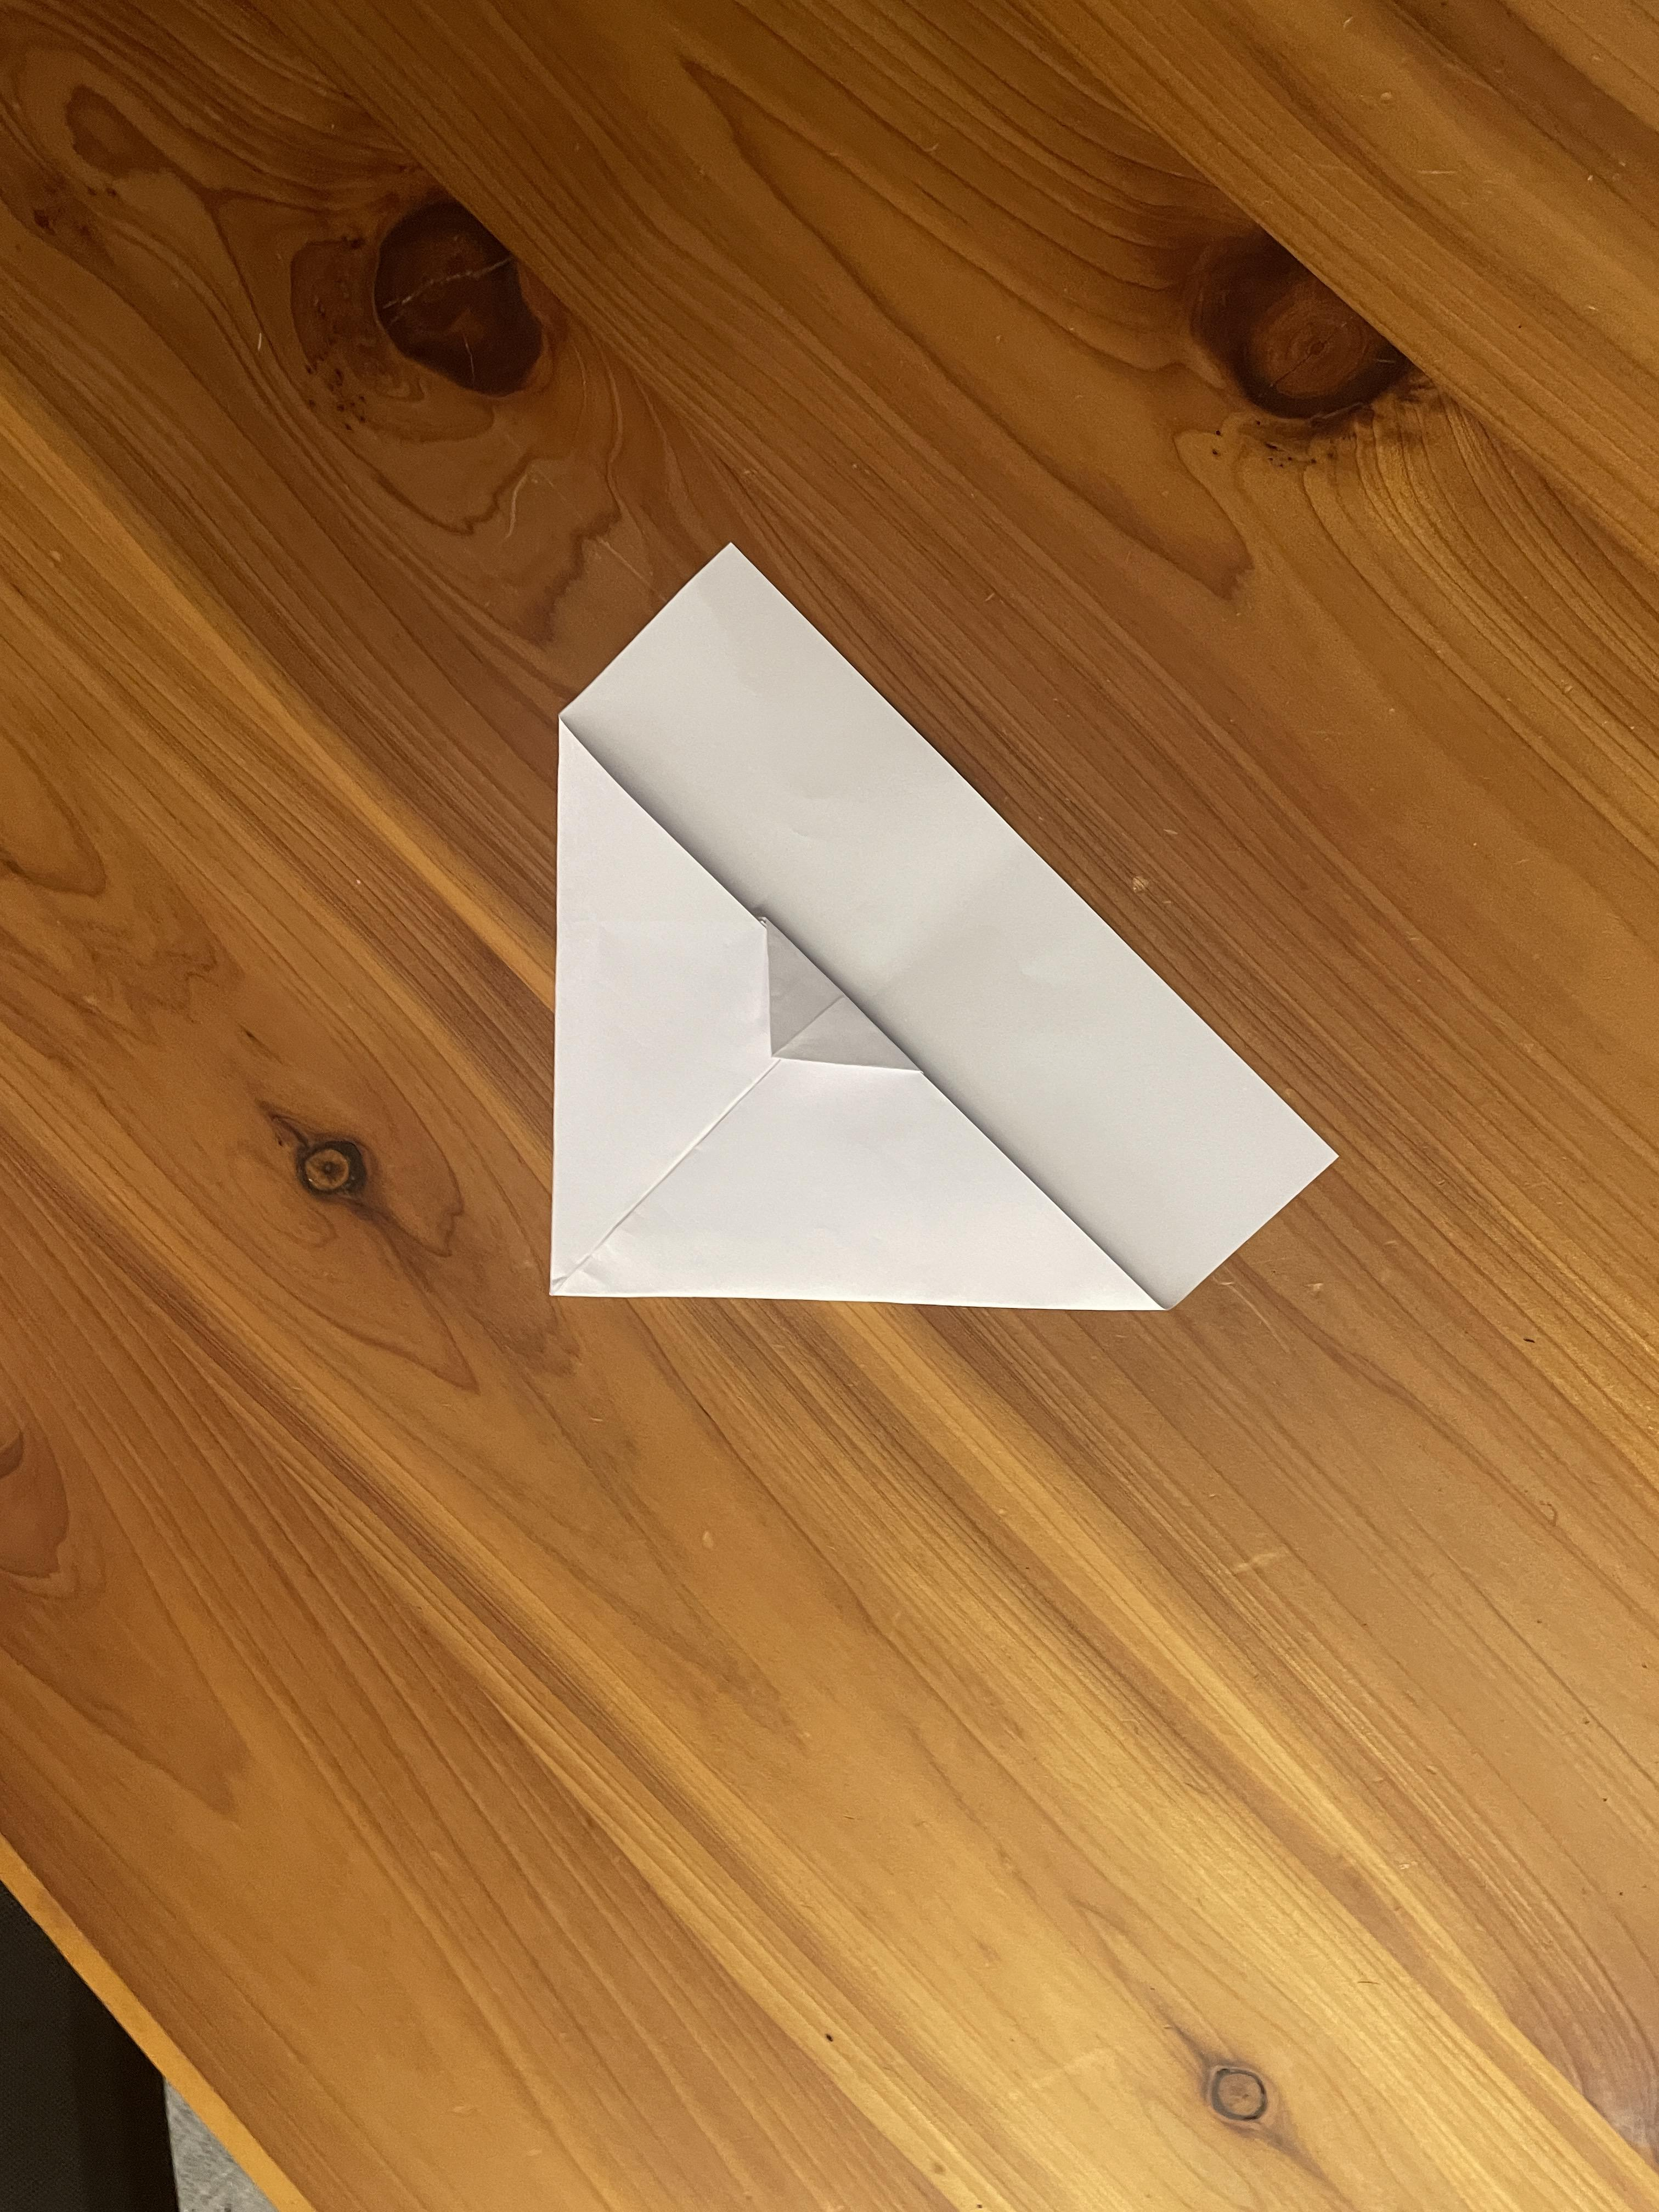shape_2: (340, 434, 1420, 1541)
